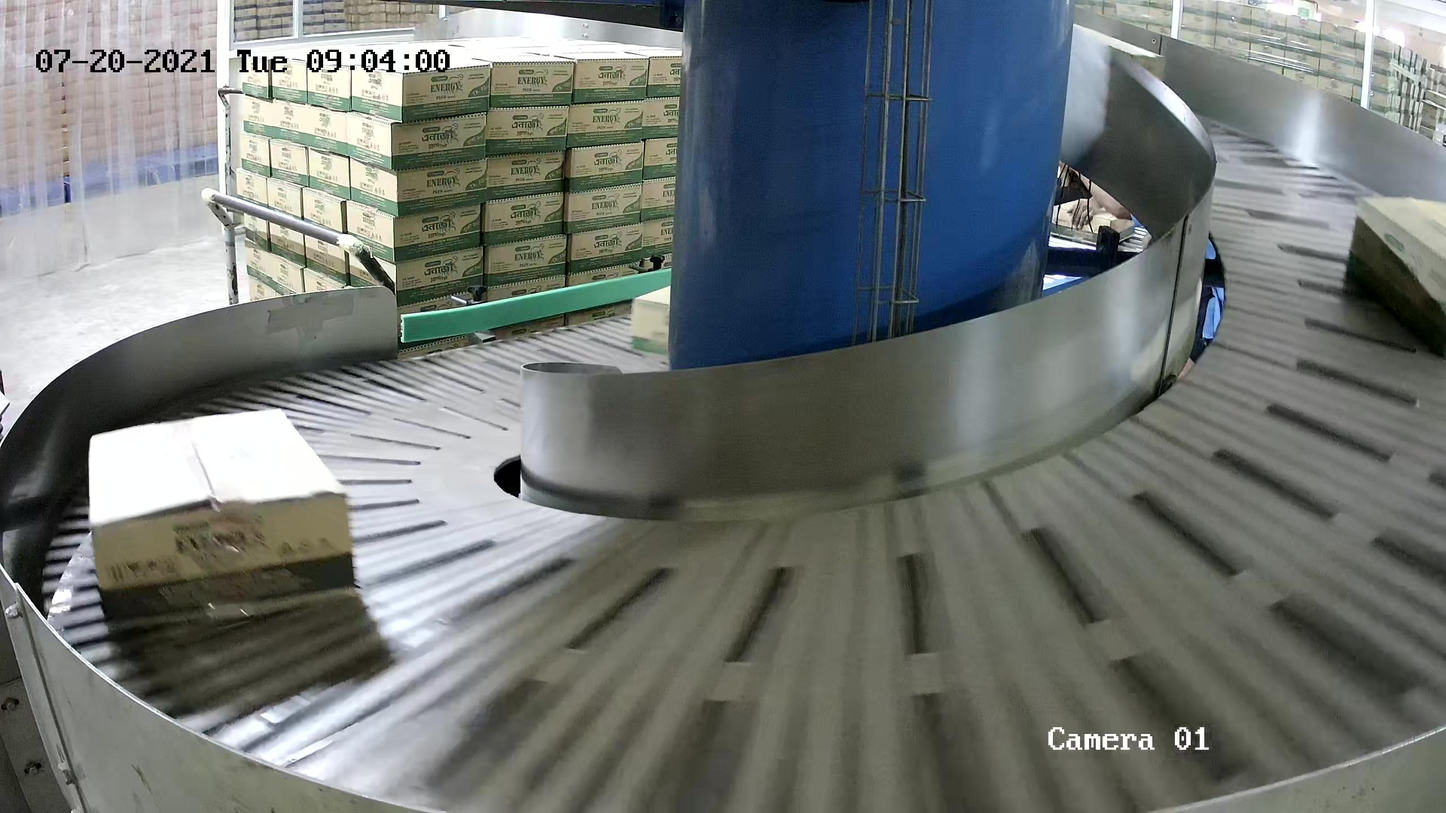Box: (88, 406, 359, 633), (1347, 196, 1446, 365), (630, 272, 773, 365)
